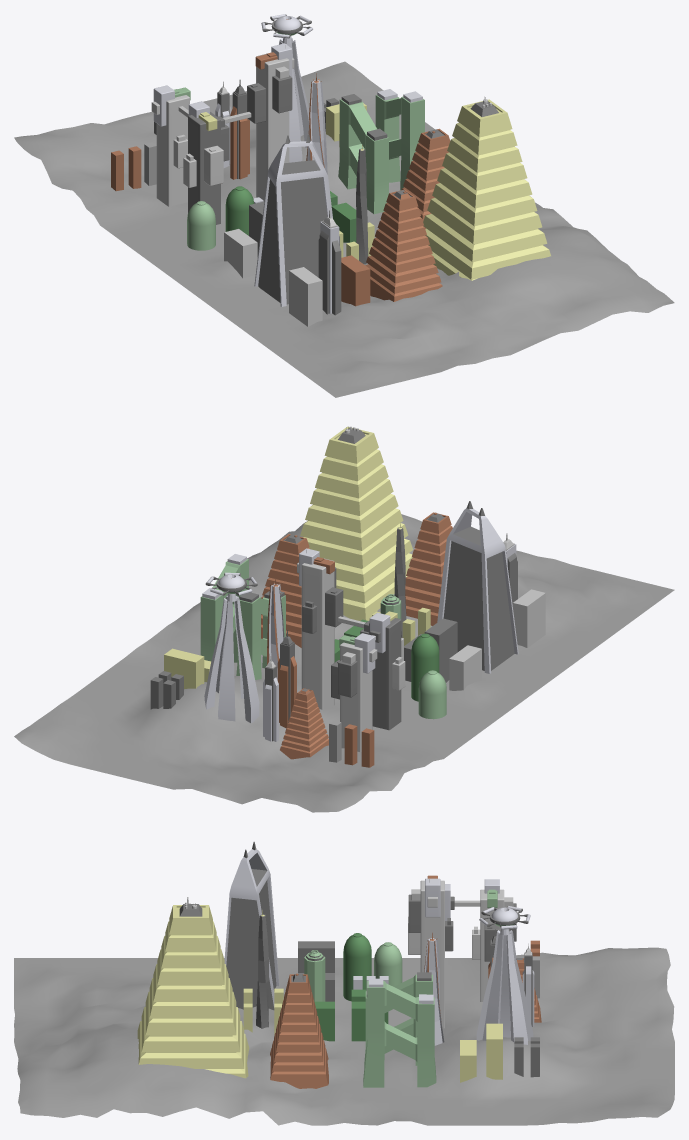
File: CityFinal.fbx
3 views of the same model, one above another, from view 1: azimuth 30°, elevation 25°; view 2: azimuth 150°, elevation 25°; view 3: azimuth 270°, elevation 25° (orthographic).
Visible parts, largest first — view 1: Ground, PyramidBuilding1, HoleTower, PyramidBuilding2, ABuilding1, ABuilding2, CubeBuilding1, CubeBuilding3, Building3, CubeBuilding2, pCube17, Spire1 (+13 smaller); view 2: Ground, PyramidBuilding1, HoleTower, Spire1, CubeBuilding1, PyramidBuilding2, CubeBuilding2, Building3, PyramidBuilding3, ABuilding2, ABuilding1, CubeBuilding3 (+10 smaller); view 3: Ground, PyramidBuilding1, HoleTower, ABuilding2, Building3, Spire1, CubeBuilding1, Cylinder3, TwistBuilding1, ABuilding1, TwistBuilding, Cylinder2 (+10 smaller).
Part boxes in pixels (box(x1,y1,x2,y2)): Ground: box(14, 61, 674, 397); PyramidBuilding1: box(423, 99, 550, 280); HoleTower: box(254, 134, 332, 306); PyramidBuilding2: box(365, 189, 442, 301); ABuilding1: box(338, 94, 388, 214); ABuilding2: box(375, 89, 424, 190); CubeBuilding1: box(256, 53, 289, 201); CubeBuilding3: box(156, 89, 189, 206); Building3: box(402, 128, 450, 228); CubeBuilding2: box(188, 112, 220, 224); pCube17: box(289, 267, 322, 326); Spire1: box(279, 36, 309, 162); Ground: box(14, 514, 674, 812); PyramidBuilding1: box(300, 426, 412, 620); HoleTower: box(437, 501, 518, 673); Spire1: box(204, 593, 259, 723); CubeBuilding1: box(301, 558, 334, 709); PyramidBuilding2: box(405, 512, 452, 625); CubeBuilding2: box(369, 618, 401, 730); Building3: box(261, 534, 309, 647); PyramidBuilding3: box(280, 688, 328, 759); ABuilding2: box(200, 554, 248, 662); ABuilding1: box(236, 591, 285, 679); CubeBuilding3: box(340, 636, 372, 752); Ground: box(14, 947, 674, 1125); PyramidBuilding1: box(137, 904, 249, 1078); HoleTower: box(224, 841, 279, 1010); ABuilding2: box(363, 978, 436, 1087); Building3: box(270, 974, 328, 1088); Spire1: box(476, 929, 533, 1044); CubeBuilding1: box(420, 880, 444, 1028); Cylinder3: box(343, 933, 371, 1001); TwistBuilding1: box(256, 910, 268, 1028); ABuilding1: box(364, 972, 432, 1066); TwistBuilding: box(424, 932, 444, 1045); Cylinder2: box(374, 942, 402, 986).
Size of the model in its own units: 300 by 181 by 500.
